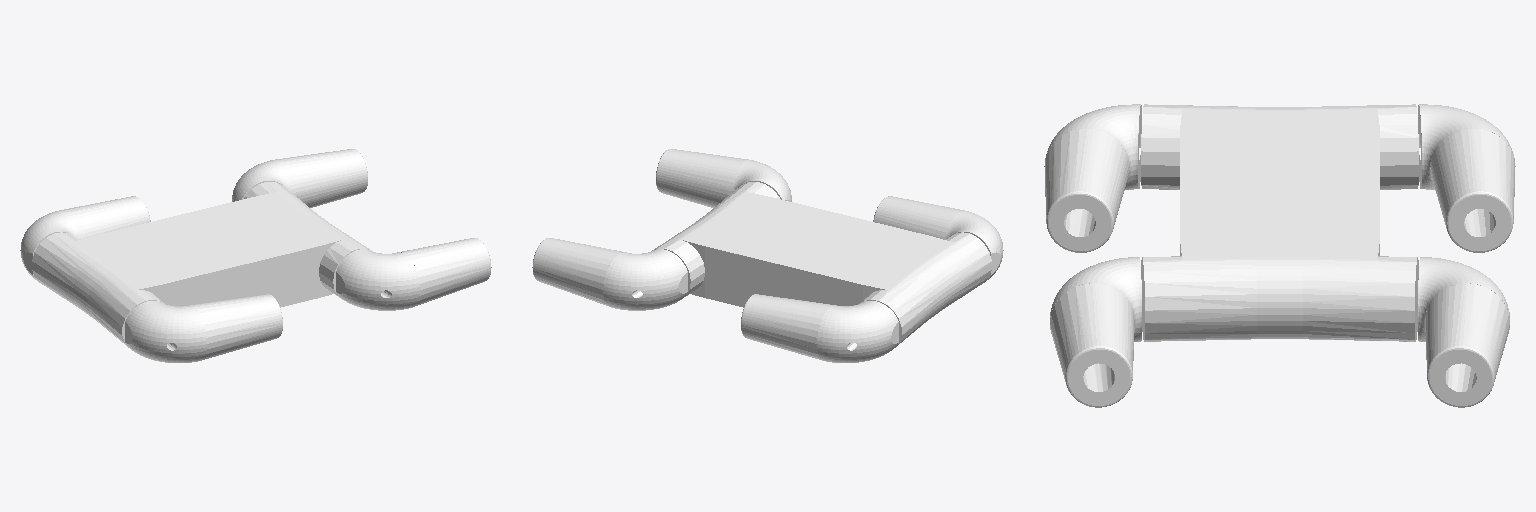
robot.urdf — 3_degree:
<?xml version="1.0" encoding="utf-8"?>
<!-- This URDF was automatically created by SolidWorks to URDF Exporter! Originally created by [author] ([email redacted]) 
     Commit Version: 1.5.1-0-g916b5db  Build Version: 1.5.7152.31018
     For more information, please see http://wiki.ros.org/sw_urdf_exporter -->
<robot
  name="3_degree">
  <link
    name="base_link">
    <inertial>
      <origin
        xyz="2.0817E-17 1.3128E-08 -6.9389E-18"
        rpy="0 0 0" />
      <mass
        value="2.803" />
      <inertia
        ixx="0.010324993"
        ixy="8.429E-19"
        ixz="-8.8377E-11"
        iyy="0.035731661"
        iyz="-2.3293E-18"
        izz="0.043695761" />
    </inertial>
    <visual>
      <origin
        xyz="0 0 0"
        rpy="0 0 0" />
      <geometry>
        <mesh
          filename="package://3_degree/meshes/base_link.STL" />
      </geometry>
      <material
        name="">
        <color
          rgba="1 1 1 1" />
      </material>
    </visual>
    <collision>
      <origin
        xyz="0 0 0"
        rpy="0 0 0" />
      <geometry>
        <mesh
          filename="package://3_degree/meshes/base_link.STL" />
      </geometry>
    </collision>
  </link>
  <link
    name="left_fromt_link">
    <inertial>
      <origin
        xyz="-1.8009E-07 0.051635 -0.033047"
        rpy="0 0 0" />
      <mass
        value="0.0794" />
      <inertia
        ixx="0.000184174"
        ixy="5.9158E-10"
        ixz="4.6357E-10"
        iyy="0.000044657"
        iyz="1.1293E-05"
        izz="0.000183192" />
    </inertial>
    <visual>
      <origin
        xyz="0 0 0"
        rpy="0 0 0" />
      <geometry>
        <mesh
          filename="package://3_degree/meshes/left_fromt_link.STL" />
      </geometry>
      <material
        name="">
        <color
          rgba="1 1 1 1" />
      </material>
    </visual>
    <collision>
      <origin
        xyz="0 0 0"
        rpy="0 0 0" />
      <geometry>
        <mesh
          filename="package://3_degree/meshes/left_fromt_link.STL" />
      </geometry>
    </collision>
  </link>
  <joint
    name="left_front_leg"
    type="continuous">
    <origin
      xyz="0.13539 0.10286 0"
      rpy="1.5708 1.5708 0" />
    <parent
      link="base_link" />
    <child
      link="left_fromt_link" />
    <axis
      xyz="0 0.052336 -0.99863" />
    <limit
      effort="5"
      velocity="487" />
  </joint>
  <link
    name="right_front_link">
    <inertial>
      <origin
        xyz="1.8009E-07 0.051635 0.033047"
        rpy="0 0 0" />
      <mass
        value="0.0794" />
      <inertia
        ixx="0.000184174"
        ixy="-5.9158E-10"
        ixz="4.6357E-10"
        iyy="0.000044657"
        iyz="-1.1293E-05"
        izz="0.000183192" />
    </inertial>
    <visual>
      <origin
        xyz="0 0 0"
        rpy="0 0 0" />
      <geometry>
        <mesh
          filename="package://3_degree/meshes/right_front_link.STL" />
      </geometry>
      <material
        name="">
        <color
          rgba="1 1 1 1" />
      </material>
    </visual>
    <collision>
      <origin
        xyz="0 0 0"
        rpy="0 0 0" />
      <geometry>
        <mesh
          filename="package://3_degree/meshes/right_front_link.STL" />
      </geometry>
    </collision>
  </link>
  <joint
    name="right_front_leg"
    type="continuous">
    <origin
      xyz="0.13539 -0.10286 0"
      rpy="1.5708 1.5708 0" />
    <parent
      link="base_link" />
    <child
      link="right_front_link" />
    <axis
      xyz="0 0.052336 0.99863" />
    <limit
      effort="5"
      velocity="487" />
  </joint>
  <link
    name="right_back_link">
    <inertial>
      <origin
        xyz="8.8764E-09 0.049835 0.035704"
        rpy="0 0 0" />
      <mass
        value="0.0794" />
      <inertia
        ixx="0.000184174"
        ixy="-4.2329E-10"
        ixz="4.9948E-10"
        iyy="0.000046217"
        iyz="-1.8472E-05"
        izz="0.000181632" />
    </inertial>
    <visual>
      <origin
        xyz="0 0 0"
        rpy="0 0 0" />
      <geometry>
        <mesh
          filename="package://3_degree/meshes/right_back_link.STL" />
      </geometry>
      <material
        name="">
        <color
          rgba="1 1 1 1" />
      </material>
    </visual>
    <collision>
      <origin
        xyz="0 0 0"
        rpy="0 0 0" />
      <geometry>
        <mesh
          filename="package://3_degree/meshes/right_back_link.STL" />
      </geometry>
    </collision>
  </link>
  <joint
    name="right_back_leg"
    type="continuous">
    <origin
      xyz="-0.13539 -0.10286 0"
      rpy="-3.0892 1.5708 1.5708" />
    <parent
      link="base_link" />
    <child
      link="right_back_link" />
    <axis
      xyz="0 0 1" />
    <limit
      effort="5"
      velocity="487" />
  </joint>
  <link
    name="left_back_link">
    <inertial>
      <origin
        xyz="-8.8764E-09 0.047898 -0.038264"
        rpy="0 0 0" />
      <mass
        value="0.0794" />
      <inertia
        ixx="0.000184174"
        ixy="4.4885E-10"
        ixz="4.7664E-10"
        iyy="0.000048519"
        iyz="0.000025448"
        izz="0.000179331" />
    </inertial>
    <visual>
      <origin
        xyz="0 0 0"
        rpy="0 0 0" />
      <geometry>
        <mesh
          filename="package://3_degree/meshes/left_back_link.STL" />
      </geometry>
      <material
        name="">
        <color
          rgba="1 1 1 1" />
      </material>
    </visual>
    <collision>
      <origin
        xyz="0 0 0"
        rpy="0 0 0" />
      <geometry>
        <mesh
          filename="package://3_degree/meshes/left_back_link.STL" />
      </geometry>
    </collision>
  </link>
  <joint
    name="left_back_leg"
    type="continuous">
    <origin
      xyz="-0.13539 0.10286 0"
      rpy="1.5708 1.5708 0" />
    <parent
      link="base_link" />
    <child
      link="left_back_link" />
    <axis
      xyz="0 -0.052336 -0.99863" />
    <limit
      effort="5"
      velocity="487" />
  </joint>
</robot>

--- Render facts (derived) ---
The picture shows the robot from 3 angles, left to right: view 1: azimuth 30°, elevation 25°; view 2: azimuth 150°, elevation 25°; view 3: azimuth 270°, elevation 25°; orthographic projection.
Robot: 3_degree — 5 links, 4 joints (4 continuous); root link base_link; default pose: all joints at 0.
Links seen in each view (by area): view 1: base_link, right_back_link, right_front_link, left_fromt_link, left_back_link; view 2: base_link, left_back_link, left_fromt_link, right_front_link, right_back_link; view 3: base_link, right_back_link, left_back_link, right_front_link, left_fromt_link.
Boxes of the visible links, x1,y1,x2,y2 form: base_link: [32, 182, 371, 347]; right_back_link: [125, 294, 282, 362]; right_front_link: [336, 238, 491, 310]; left_fromt_link: [232, 149, 367, 207]; left_back_link: [20, 196, 150, 280]; base_link: [652, 182, 991, 347]; left_back_link: [741, 294, 898, 362]; left_fromt_link: [532, 238, 687, 310]; right_front_link: [656, 149, 791, 207]; right_back_link: [873, 196, 1003, 280]; base_link: [1141, 104, 1418, 341]; right_back_link: [1044, 104, 1141, 252]; left_back_link: [1418, 104, 1515, 252]; right_front_link: [1050, 257, 1141, 407]; left_fromt_link: [1418, 257, 1509, 407].
Bounding box of the posed robot: 0.4431 × 0.3539 × 0.064 m (x, y, z).
Meshes: 5 distinct files referenced, 5 mesh visuals loaded (5 binary STL).